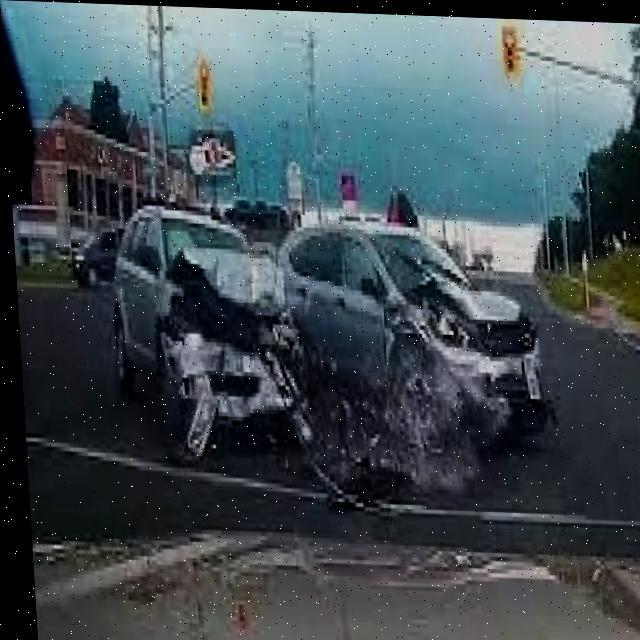multiple_accident: (65, 133, 577, 523)
